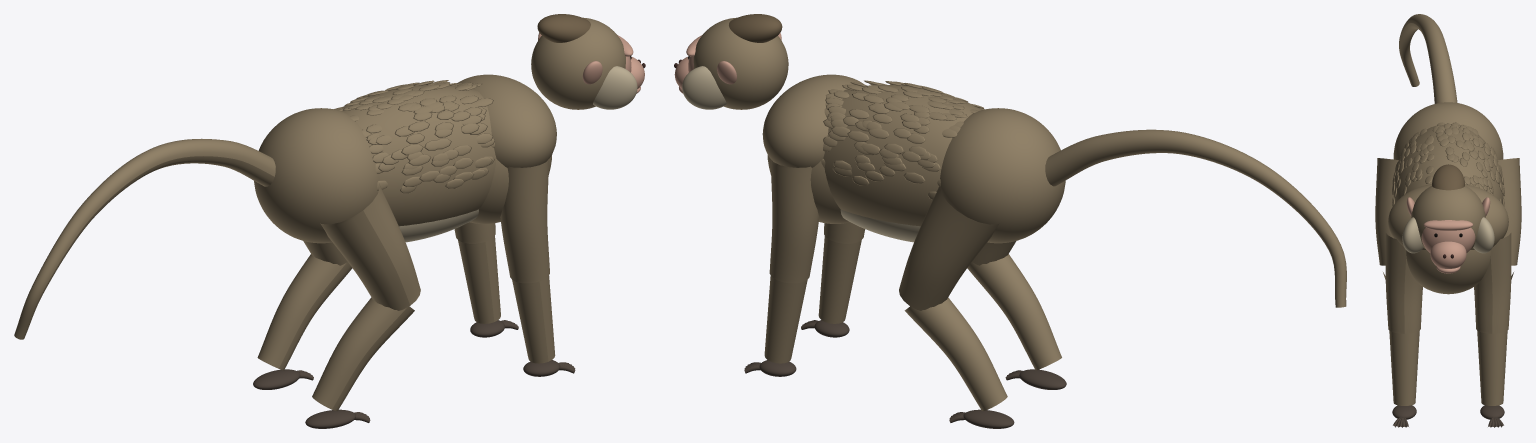
The model's file is monyet.glb.
3 renders of one model, left to right at view 1: azimuth 30°, elevation 25°; view 2: azimuth 150°, elevation 25°; view 3: azimuth 270°, elevation 25°, orthographic. The views are drawn at different scales.
Visible parts, largest first — view 1: hips, torso, fur_tufts, tail, thigh_R, shoulders, head, arm_upper_R, shin_L, shin_R, arm_lower_R, arm_lower_L (+8 smaller); view 2: hips, torso, fur_tufts, tail, thigh_L, head, shoulders, arm_upper_L, shin_R, shin_L, arm_lower_L, arm_lower_R (+7 smaller); view 3: fur_tufts, arm_upper_L, arm_upper_R, tail, torso, hips, head, chest, arm_lower_L, arm_lower_R, shoulders, thigh_L (+9 smaller).
Part boxes in pixels (<box>): hips: <box>254,108,379,243</box>; torso: <box>341,85,496,226</box>; fur_tufts: <box>334,80,494,193</box>; tail: <box>14,138,275,339</box>; thigh_R: <box>320,183,420,310</box>; shoulders: <box>457,74,556,167</box>; head: <box>531,17,625,109</box>; arm_upper_R: <box>500,159,549,283</box>; shin_L: <box>257,254,352,370</box>; shin_R: <box>312,297,414,410</box>; arm_lower_R: <box>512,275,555,363</box>; arm_lower_L: <box>458,236,500,323</box>; hips: <box>940,108,1065,243</box>; torso: <box>823,85,981,226</box>; fur_tufts: <box>821,80,984,199</box>; tail: <box>1045,129,1346,307</box>; thigh_L: <box>899,183,999,310</box>; head: <box>693,17,788,109</box>; shoulders: <box>762,74,864,167</box>; arm_upper_L: <box>769,159,819,283</box>; shin_R: <box>967,254,1061,370</box>; shin_L: <box>904,297,1007,410</box>; arm_lower_L: <box>764,275,807,363</box>; arm_lower_R: <box>818,236,861,323</box>; fur_tufts: <box>1392,122,1504,206</box>; arm_upper_L: <box>1474,233,1511,333</box>; arm_upper_R: <box>1385,233,1422,333</box>; tail: <box>1399,14,1457,103</box>; torso: <box>1393,124,1503,203</box>; hips: <box>1393,102,1503,159</box>; head: <box>1411,186,1485,249</box>; chest: <box>1406,250,1490,294</box>; arm_lower_L: <box>1477,330,1507,405</box>; arm_lower_R: <box>1389,330,1419,405</box>; shoulders: <box>1388,184,1508,249</box>; thigh_L: <box>1498,158,1521,265</box>.
Size of the model in its own units: 1.11 by 0.5355 by 0.2663.
